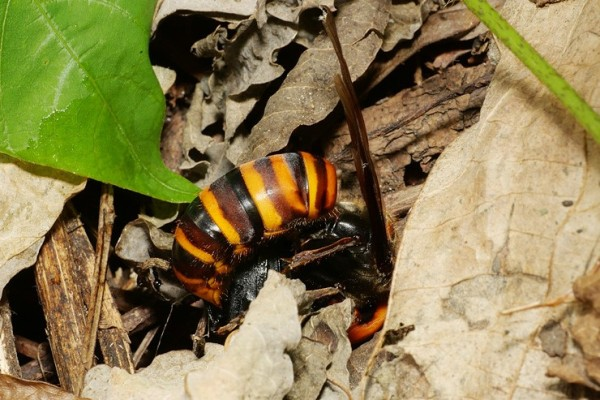asian_giant_hornet: (170, 149, 409, 345)
